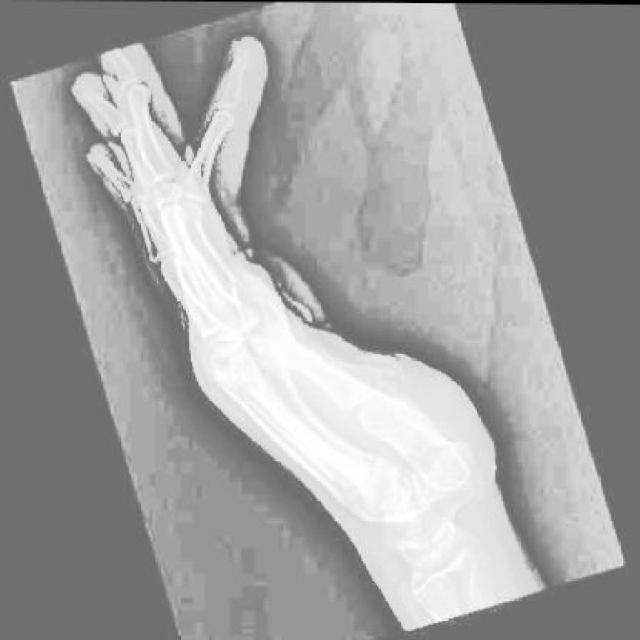Fracture: (230, 55, 250, 82)
